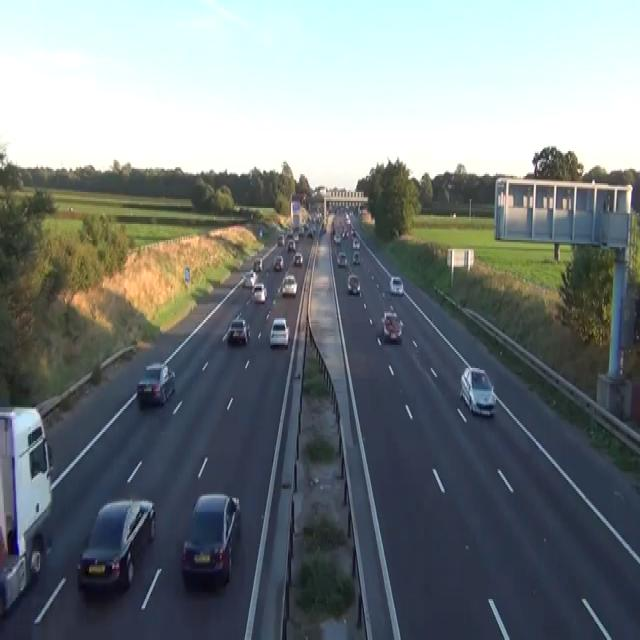Car: (76, 498, 156, 592), (180, 492, 240, 588), (459, 364, 496, 416), (136, 361, 175, 405), (381, 309, 403, 343), (226, 318, 250, 345), (269, 316, 289, 348), (281, 274, 297, 297), (251, 283, 267, 302), (381, 309, 397, 327), (347, 274, 360, 295), (242, 268, 257, 286), (389, 276, 403, 295), (336, 250, 347, 266), (273, 254, 283, 270), (293, 251, 303, 265), (287, 238, 296, 251), (352, 251, 360, 265), (253, 258, 262, 270), (352, 238, 360, 249), (277, 233, 284, 245), (333, 233, 341, 243), (359, 206, 366, 217), (293, 231, 299, 242), (350, 226, 356, 236), (286, 230, 293, 238), (306, 228, 313, 236), (298, 226, 304, 234), (321, 224, 326, 233), (451, 212, 456, 218), (259, 228, 262, 236)
Truck: (0, 404, 53, 615)
